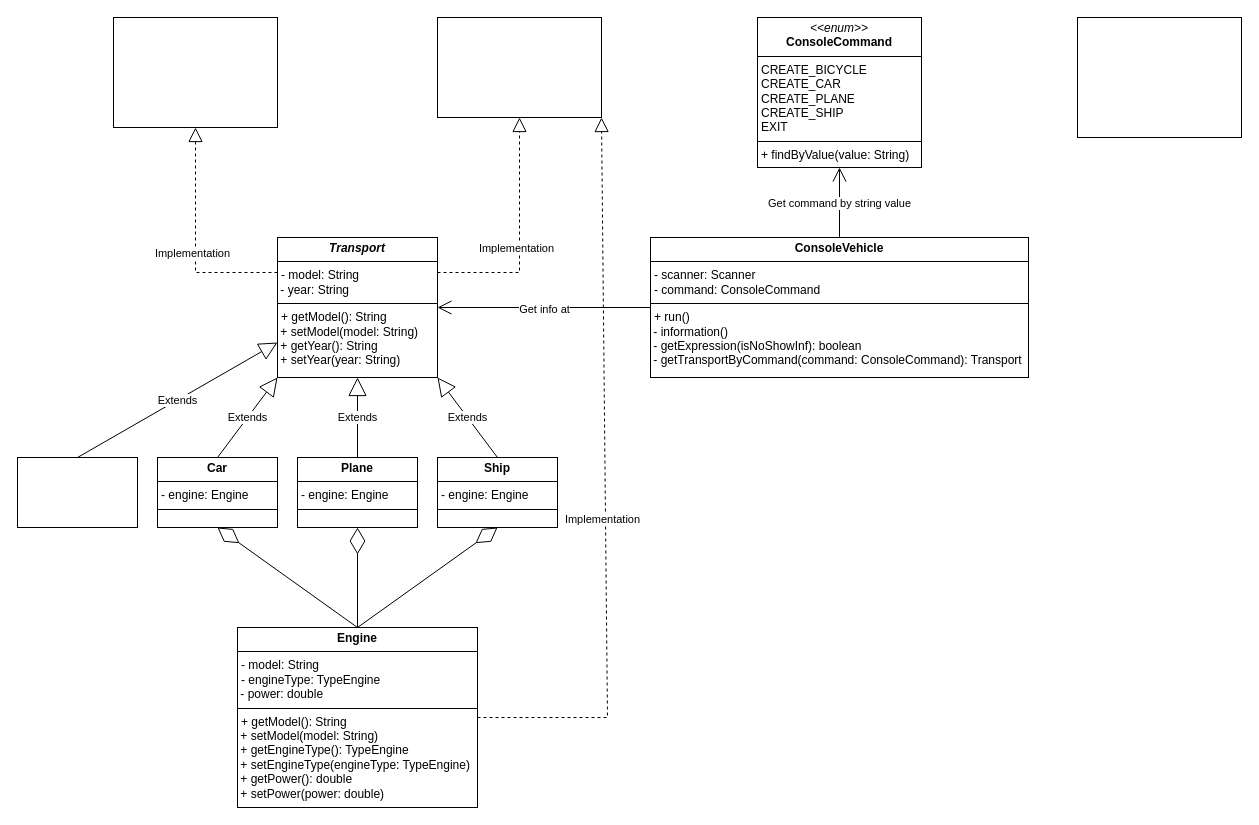
This 1259x825 diagram has some shape labels left out. The shapes that lost their labels are listed below. From the top down, each one's box as (x1, y1, x2, y2) in pixels, then its label:
(112, 16, 278, 128): <<Interface>> Movable + move() + stop()
(436, 16, 602, 118): <<Interface>> Infoable + get_info()
(1076, 16, 1242, 138): <<enum>> TypeEngine PETROL DIESEL JET_ENGINES
(16, 456, 138, 528): Bicycle
